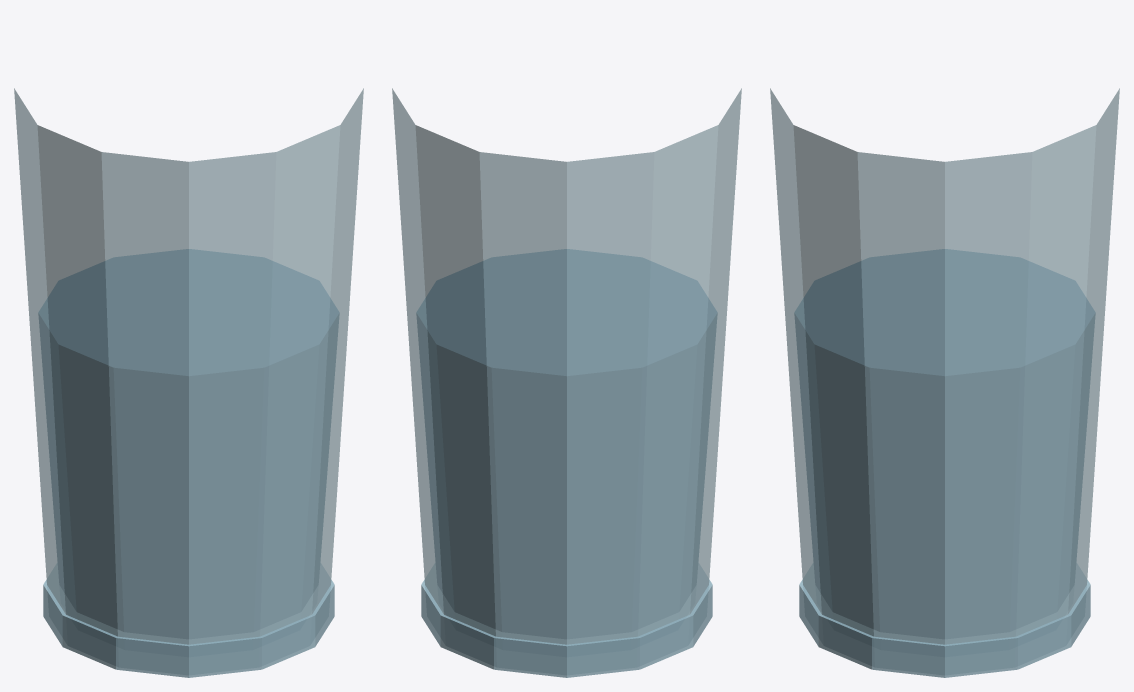
Rendered from uprawa-szklanka.glb.
3 views of the same model, side by side, from view 1: azimuth 30°, elevation 25°; view 2: azimuth 150°, elevation 25°; view 3: azimuth 270°, elevation 25° (orthographic).
Visible parts, largest first — view 1: uprawa-szklanka-0, uprawa-szklanka-1, uprawa-szklanka-2; view 2: uprawa-szklanka-0, uprawa-szklanka-1, uprawa-szklanka-2; view 3: uprawa-szklanka-0, uprawa-szklanka-1, uprawa-szklanka-2.
Part boxes in pixels (left/top/right/bottom): uprawa-szklanka-0: left=14, top=88, right=363, bottom=644; uprawa-szklanka-1: left=38, top=249, right=339, bottom=638; uprawa-szklanka-2: left=43, top=564, right=334, bottom=677; uprawa-szklanka-0: left=392, top=88, right=741, bottom=644; uprawa-szklanka-1: left=416, top=249, right=717, bottom=638; uprawa-szklanka-2: left=421, top=564, right=712, bottom=677; uprawa-szklanka-0: left=770, top=88, right=1119, bottom=644; uprawa-szklanka-1: left=794, top=249, right=1095, bottom=638; uprawa-szklanka-2: left=799, top=564, right=1090, bottom=677.
Size of the model in its own units: 0.6 by 1 by 0.6.
